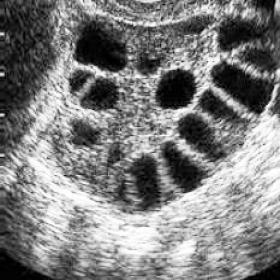PCOS: (77, 20, 136, 74), (216, 60, 273, 102), (202, 91, 256, 129), (186, 115, 223, 164), (164, 143, 196, 188), (138, 155, 160, 209), (90, 76, 117, 114), (162, 77, 195, 106), (222, 24, 257, 46), (68, 64, 92, 94), (134, 51, 161, 74), (81, 124, 102, 148), (114, 141, 127, 167), (117, 180, 130, 204)
